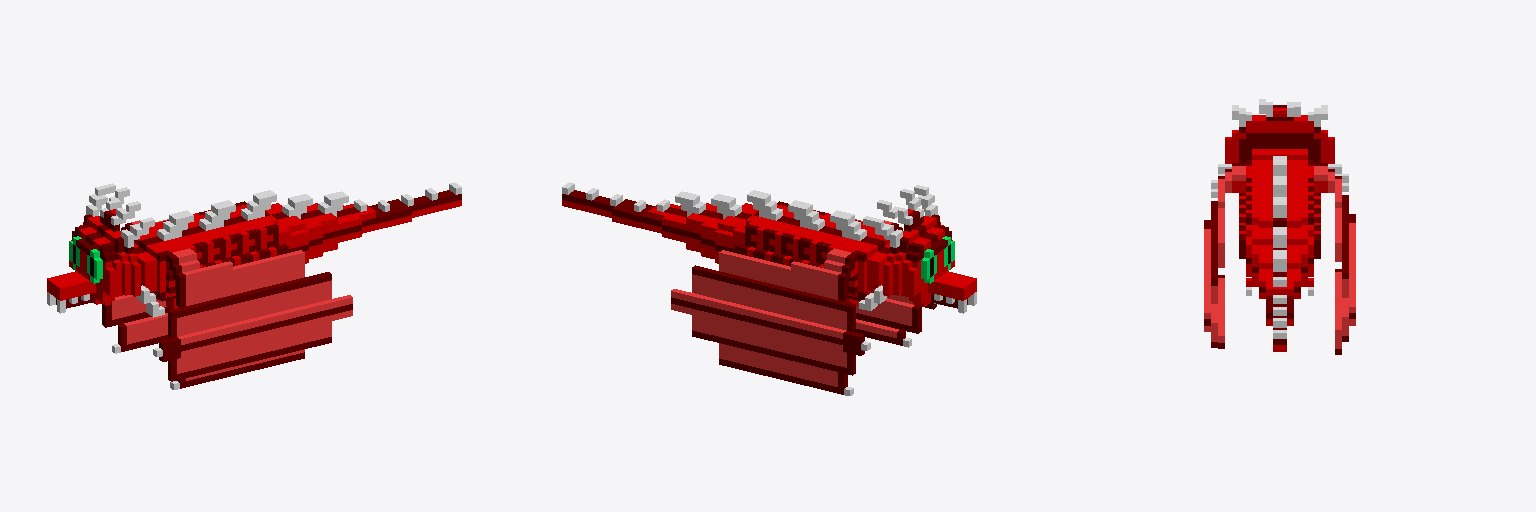
The picture shows the model from 3 angles: view 1: azimuth 30°, elevation 25°; view 2: azimuth 150°, elevation 25°; view 3: azimuth 270°, elevation 25°; orthographic projection.
Visible parts, largest first — view 1: object 1; view 2: object 1; view 3: object 1.
Part boxes in pixels (x1,y1,x2,y2): object 1: (47, 182, 461, 389); object 1: (562, 182, 976, 395); object 1: (1204, 99, 1355, 354).
Bounding box in the file's own units: 6.8 × 2.9 × 2.2.
Materials: 1 (1 with a texture image).